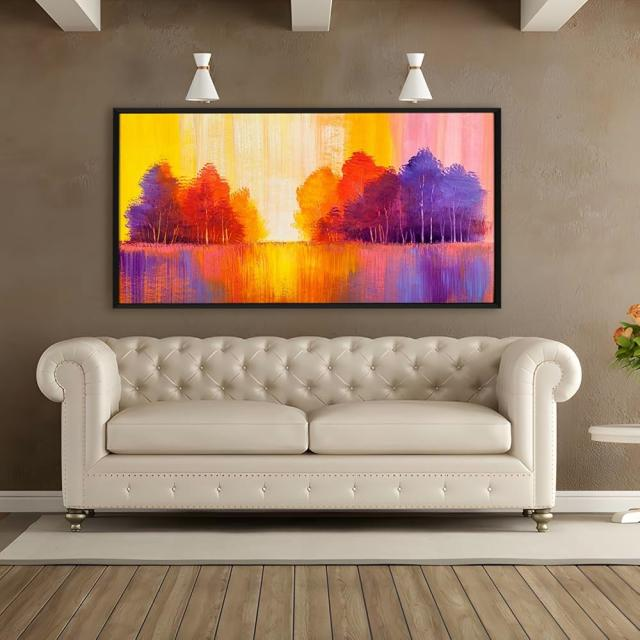painting: (115, 108, 502, 306)
